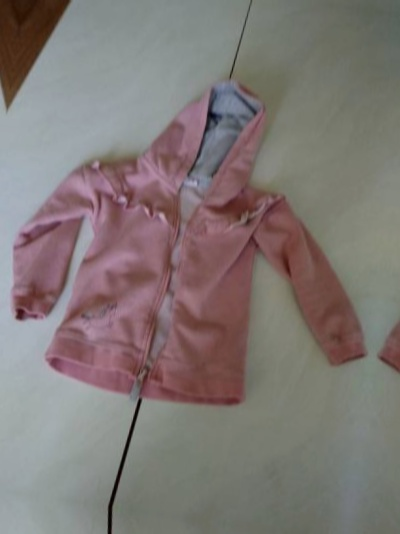Hoodie: (0, 24, 399, 428), (376, 85, 400, 488), (0, 0, 19, 372)
